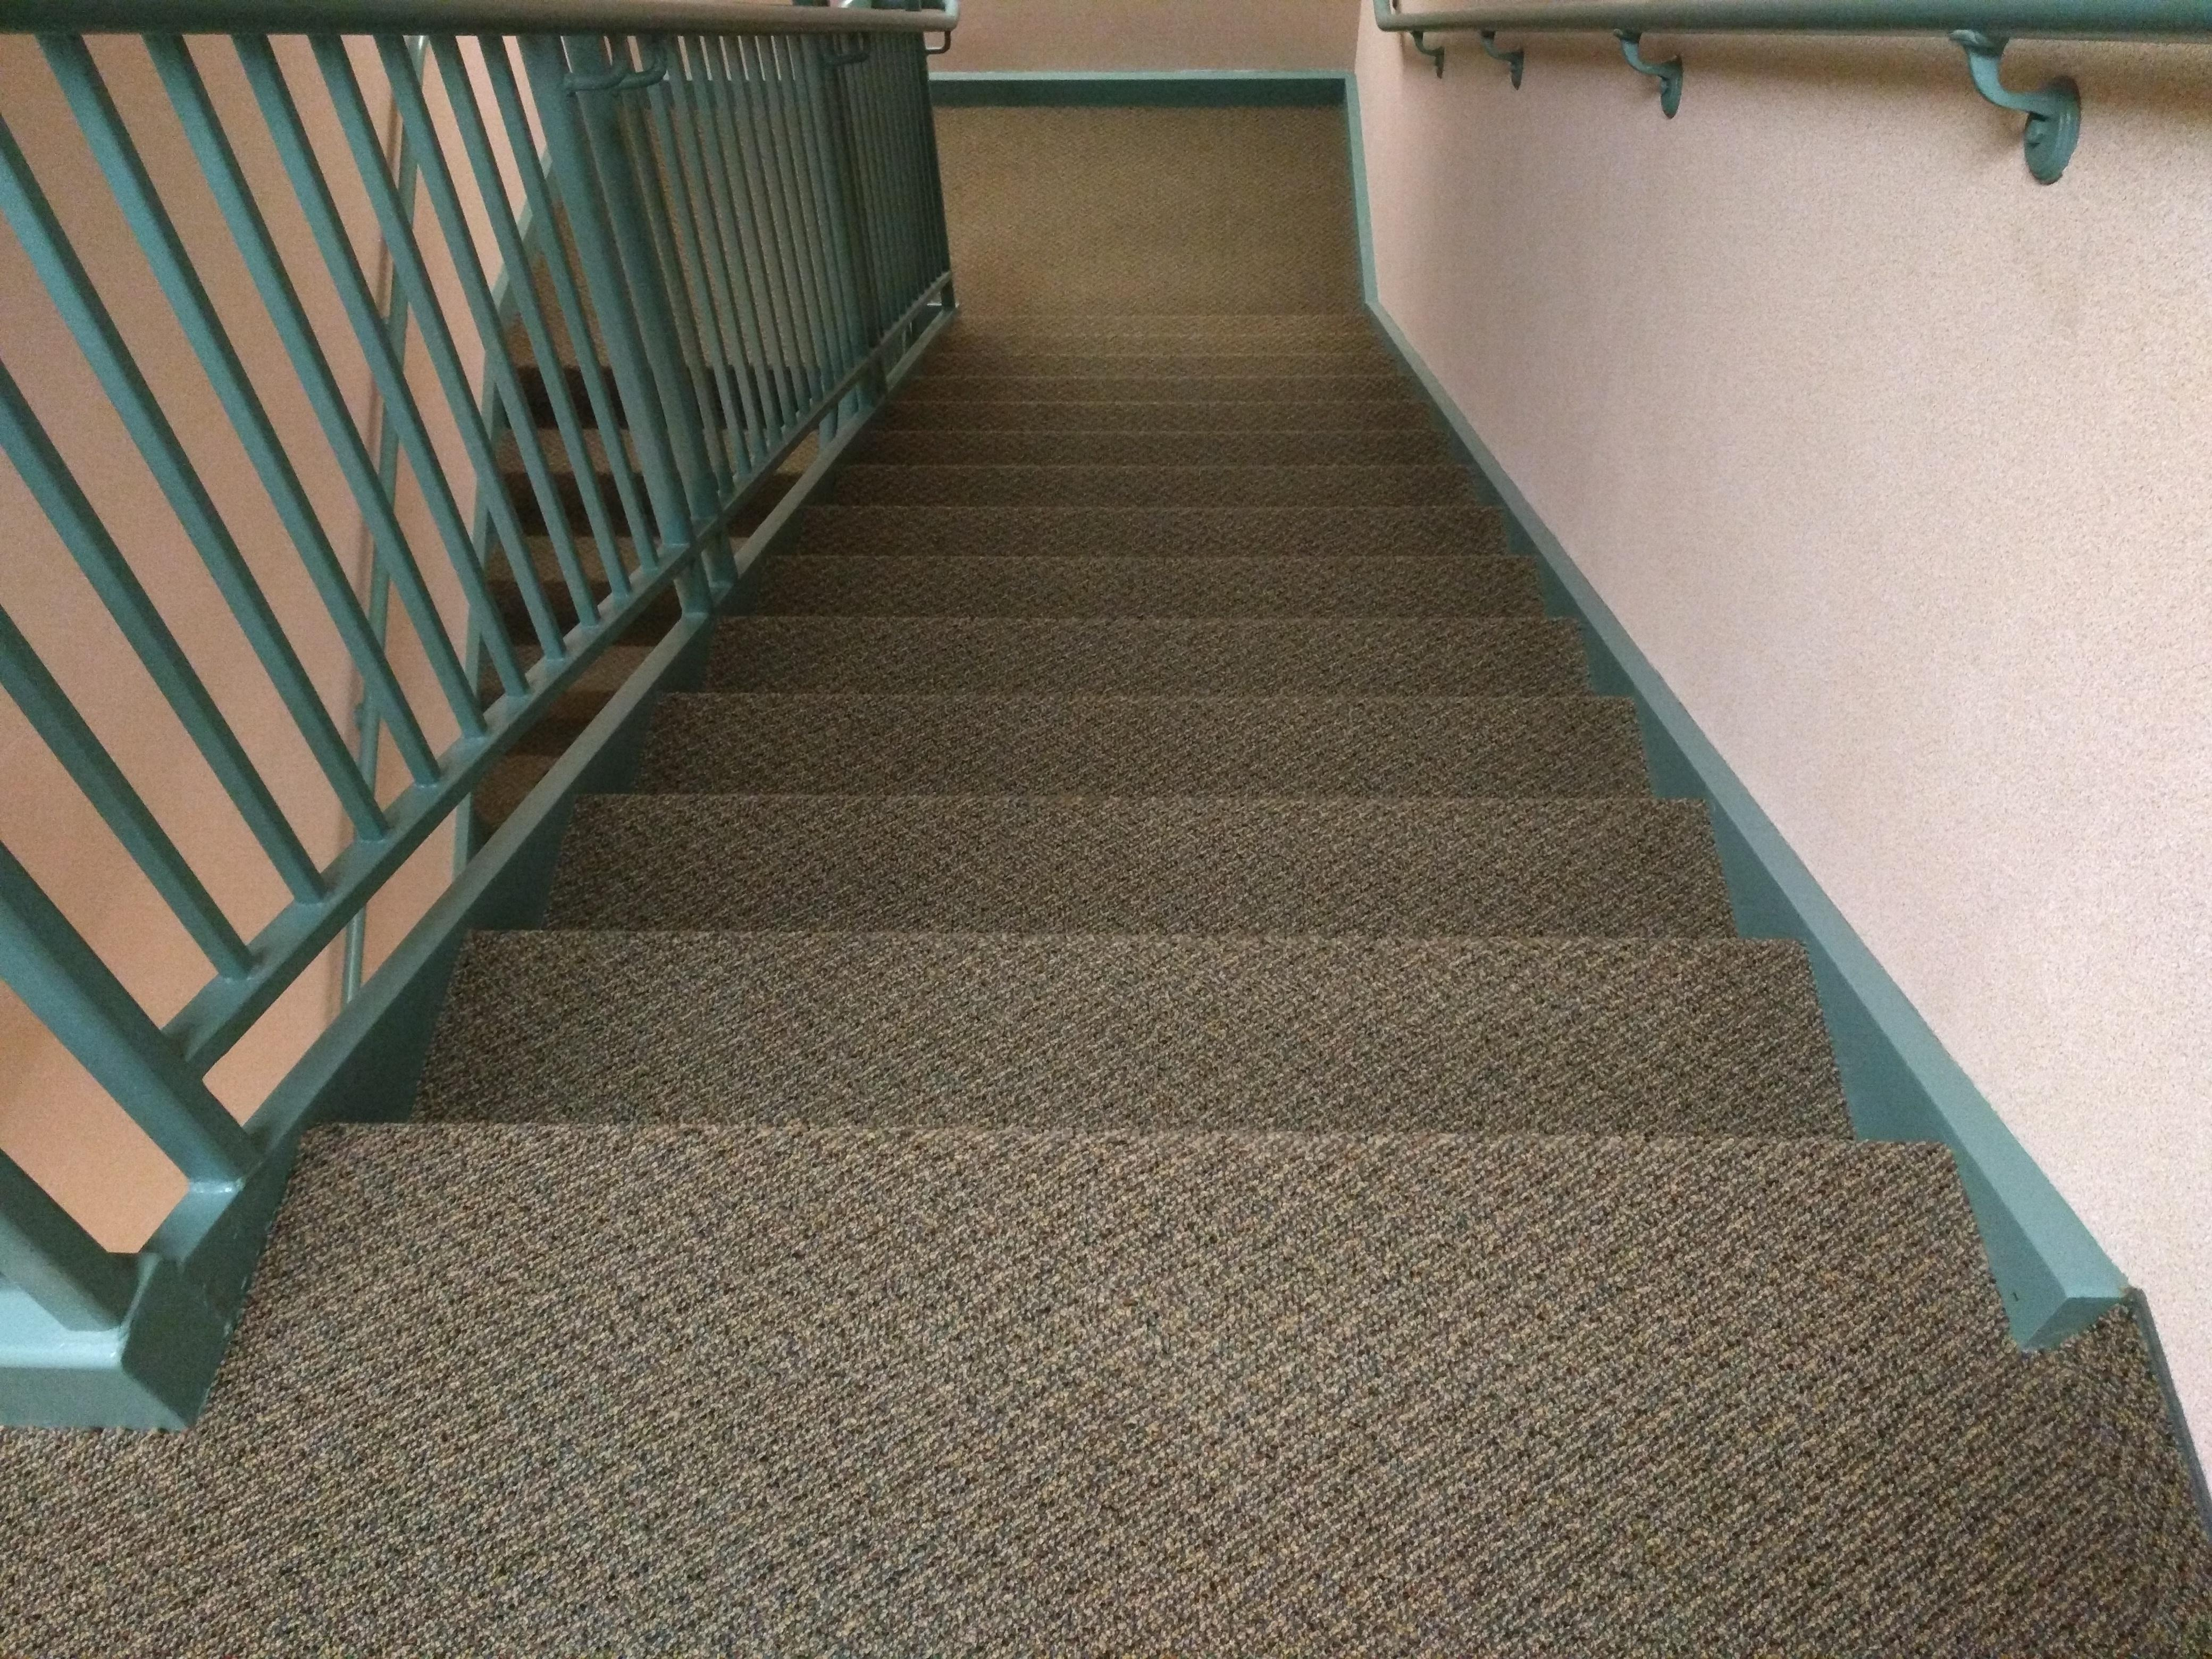stairs_down: (308, 295, 1968, 1204)
